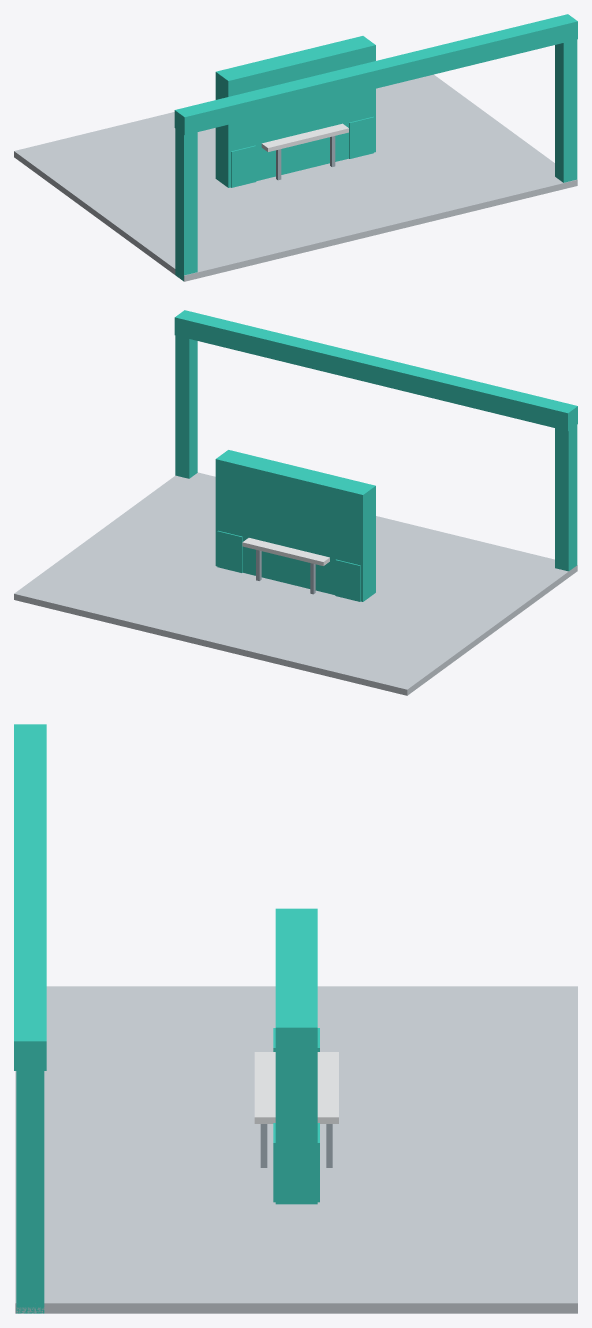
The picture shows the model from 3 angles, top to bottom: view 1: azimuth 30°, elevation 25°; view 2: azimuth 150°, elevation 25°; view 3: azimuth 270°, elevation 25°; orthographic projection. The views are drawn at different scales.
Parts seen in each view (by area): view 1: Exhibition Booth Concept; view 2: Exhibition Booth Concept; view 3: Exhibition Booth Concept.
Boxes of the visible parts, x1,y1,x2,y2 form: Exhibition Booth Concept: [14, 14, 577, 281]; Exhibition Booth Concept: [14, 310, 577, 695]; Exhibition Booth Concept: [14, 724, 577, 1313].
Size of the model in its own units: 8 by 3.2 by 6.02.
